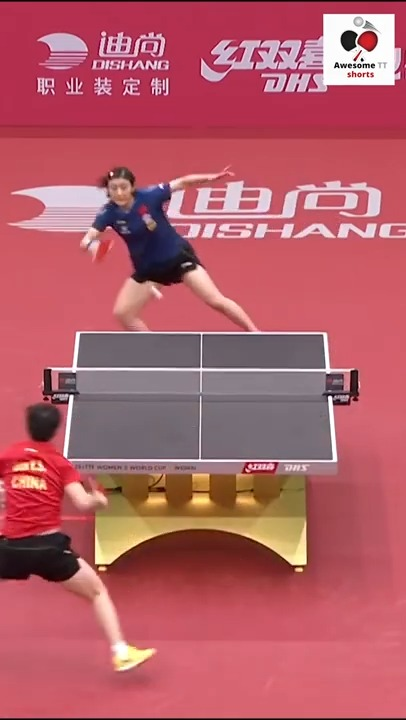Ball: (151, 287, 163, 299)
